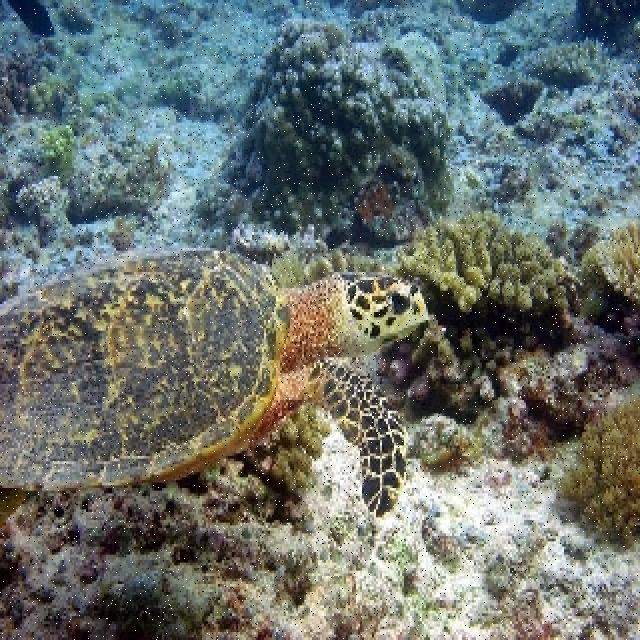fish: (0, 250, 432, 517)
reefs: (198, 18, 456, 247), (398, 216, 583, 312), (553, 394, 638, 546), (582, 219, 638, 305), (279, 408, 331, 493), (233, 220, 327, 254), (16, 172, 63, 216), (39, 122, 76, 156)
